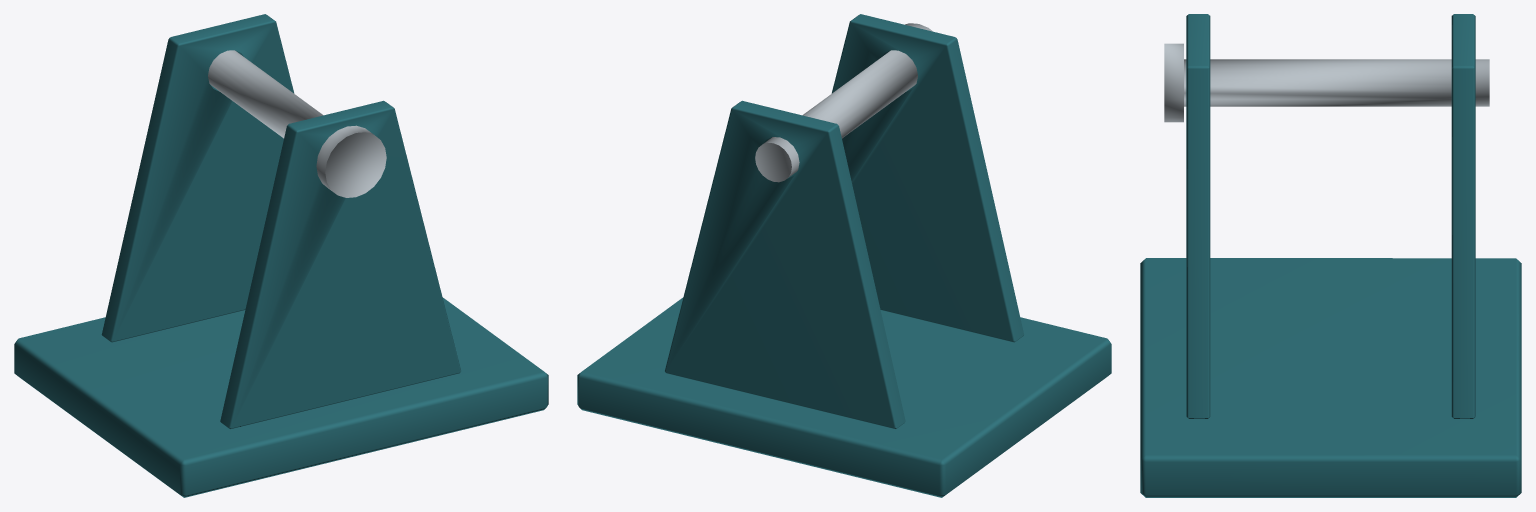
The model's file is VLAB_fulcrum.fbx.
The picture shows the model from 3 angles, left to right: view 1: azimuth 30°, elevation 25°; view 2: azimuth 150°, elevation 25°; view 3: azimuth 270°, elevation 25°; orthographic projection. The views are drawn at different scales.
Parts seen in each view (by area): view 1: VLAB_fulcrum_Base_VIS, VLAB_fulcrum_PivotPin_VIS; view 2: VLAB_fulcrum_Base_VIS, VLAB_fulcrum_PivotPin_VIS; view 3: VLAB_fulcrum_Base_VIS, VLAB_fulcrum_PivotPin_VIS.
Part boxes in pixels (box(x1,y1,x2,y2)): VLAB_fulcrum_Base_VIS: box(14, 14, 548, 497); VLAB_fulcrum_PivotPin_VIS: box(208, 50, 386, 197); VLAB_fulcrum_Base_VIS: box(577, 14, 1111, 497); VLAB_fulcrum_PivotPin_VIS: box(755, 23, 932, 182); VLAB_fulcrum_Base_VIS: box(1140, 14, 1521, 497); VLAB_fulcrum_PivotPin_VIS: box(1164, 43, 1489, 122).
Bounding box in the file's own units: 0.06 × 0.05 × 0.048.
